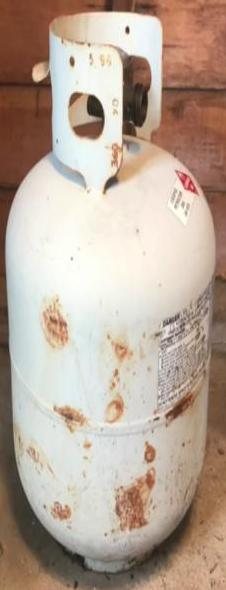cylinder: (1, 1, 226, 590)
